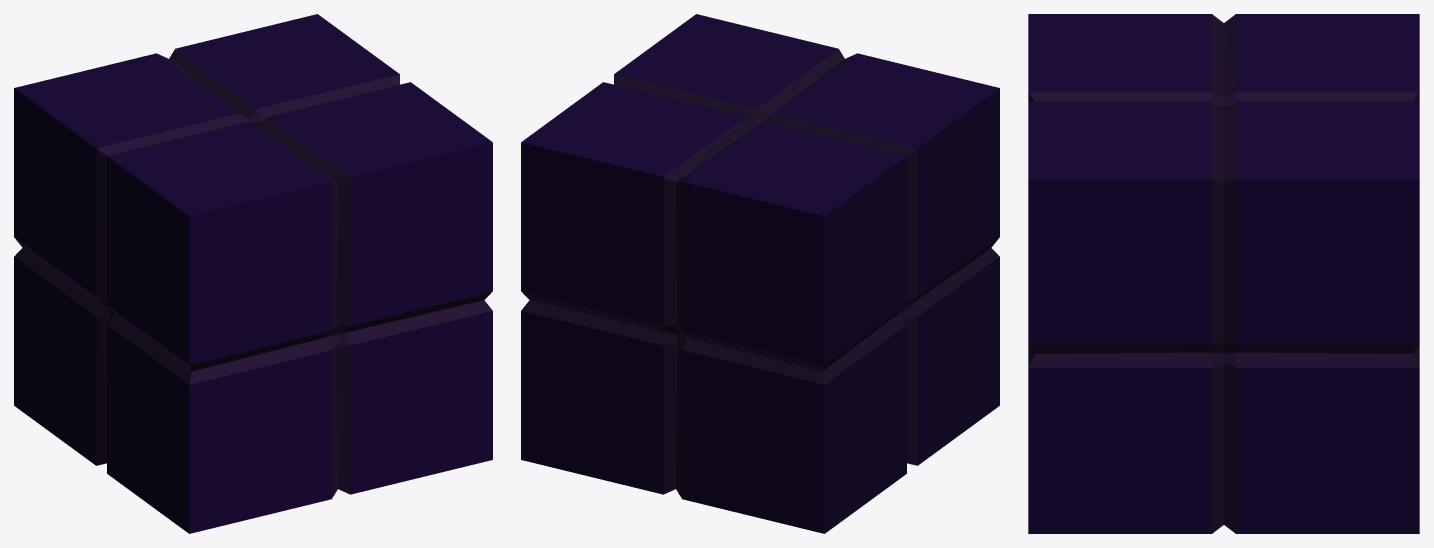
Rendered from TeleportCube.FBX.
The picture shows the model from 3 angles, left to right: view 1: azimuth 30°, elevation 25°; view 2: azimuth 150°, elevation 25°; view 3: azimuth 270°, elevation 25°; orthographic projection. The views are drawn at different scales.
Parts seen in each view (by area): view 1: CuboTeleport; view 2: CuboTeleport; view 3: CuboTeleport.
Part boxes in pixels (x1,y1,x2,y2): CuboTeleport: (14, 14, 492, 533); CuboTeleport: (521, 14, 999, 533); CuboTeleport: (1028, 14, 1419, 533).
Bounding box in the file's own units: 1 × 1 × 1.
